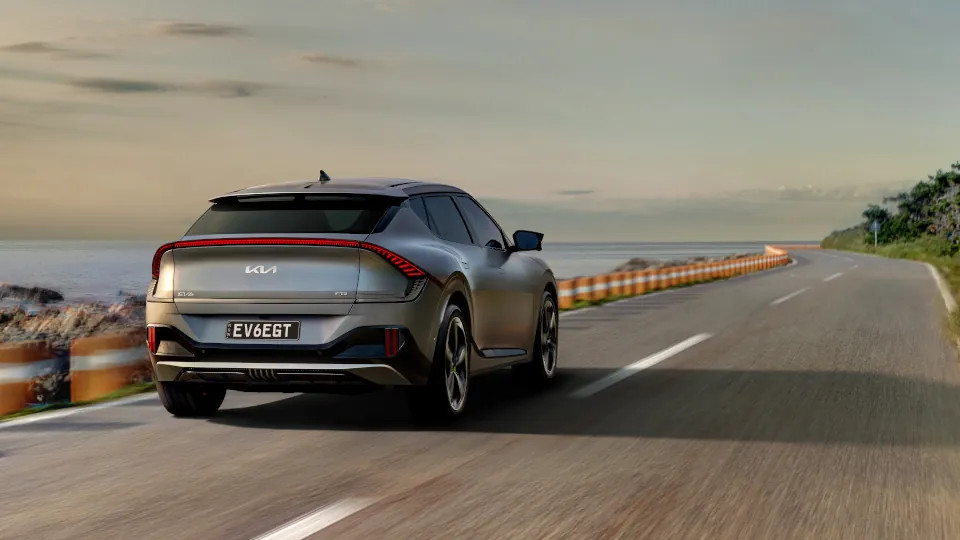car: (143, 168, 563, 426)
